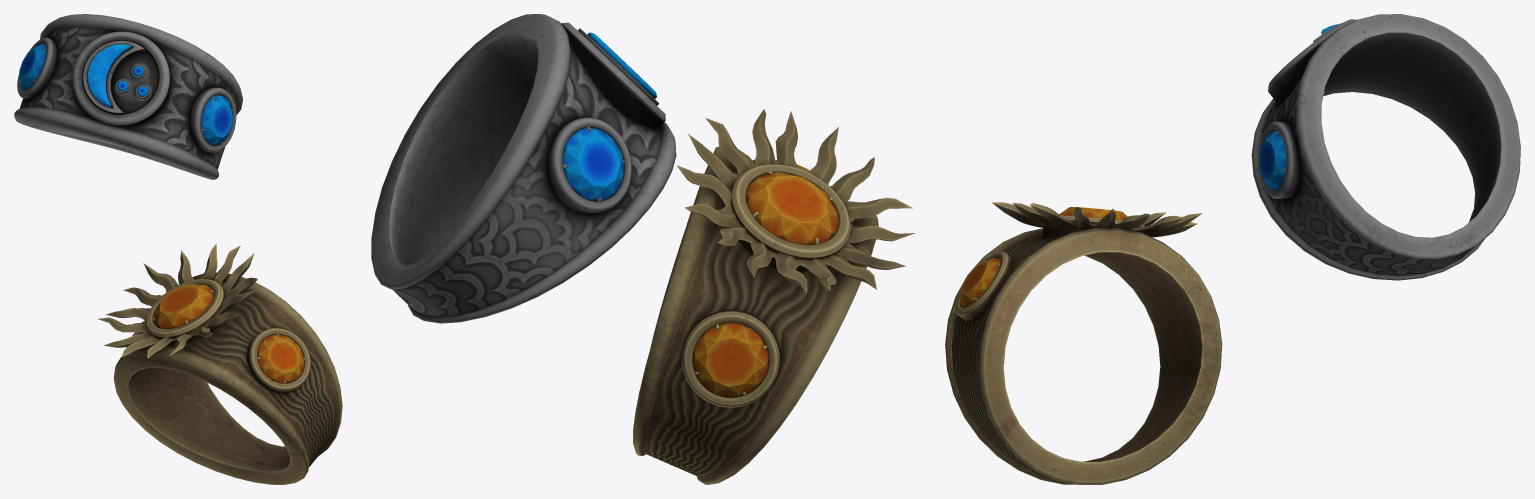
File: RINGS.glb
3 renders of one model, left to right at view 1: azimuth 30°, elevation 25°; view 2: azimuth 150°, elevation 25°; view 3: azimuth 270°, elevation 25°, orthographic. The views are drawn at different scales.
Parts seen in each view (by area): view 1: SM_Sun_Ring.001, Moon_Ring_low; view 2: Moon_Ring_low, SM_Sun_Ring.001; view 3: Moon_Ring_low, SM_Sun_Ring.001.
Part boxes in pixels (x1,y1,x2,y2): SM_Sun_Ring.001: (98,243,342,484); Moon_Ring_low: (14,14,242,179); Moon_Ring_low: (371,14,676,323); SM_Sun_Ring.001: (633,109,915,484); Moon_Ring_low: (1251,14,1520,280); SM_Sun_Ring.001: (945,202,1222,484).
Bounding box in the file's own units: 0.9931 × 1.57 × 1.8.
Materials: 2 (2 with a texture image).
